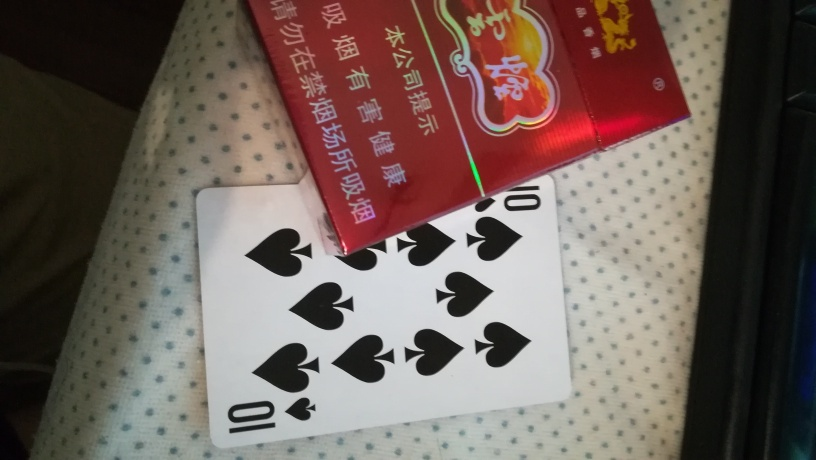ht 10: (192, 171, 583, 448)
